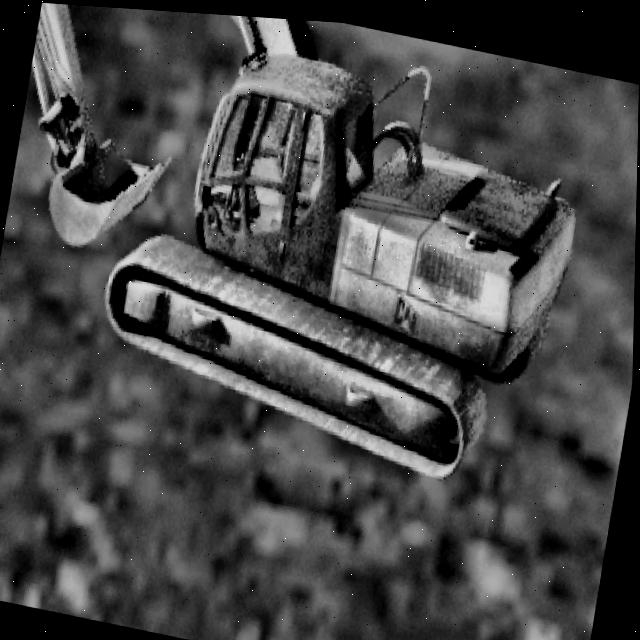excavator: (0, 0, 600, 492)
